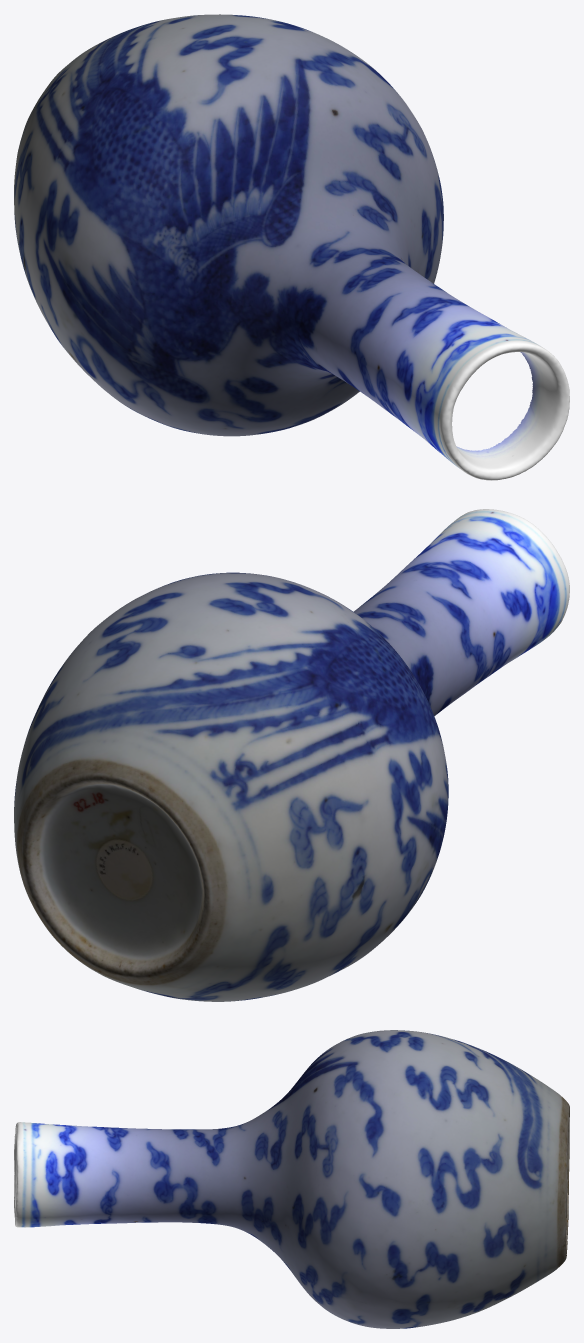
File: f1982_18-mesh-smooth-textured-150k-4096-high.glb
3 renders of one model, top to bottom at view 1: azimuth 30°, elevation 25°; view 2: azimuth 150°, elevation 25°; view 3: azimuth 270°, elevation 25°, orthographic. The views are drawn at different scales.
Size of the model in its own units: 0.1251 by 0.125 by 0.2325.
Materials: 1 (1 with a texture image).
